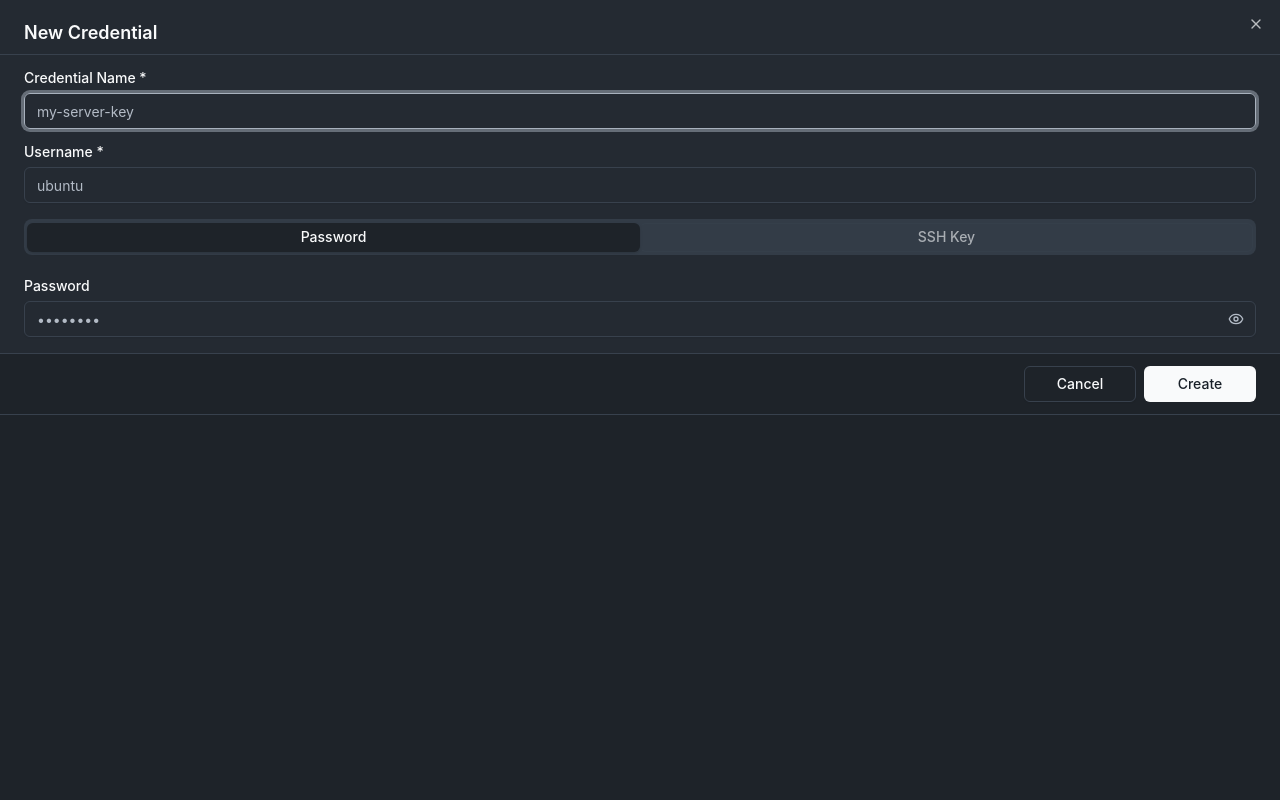
Scenario: Unsaved-changes guard — CredentialForm › prompts before closing when the user has typed something
Type "prod" into the field labelled "Credential Name *". click: x=640, y=111
box: [24,93,1256,129]
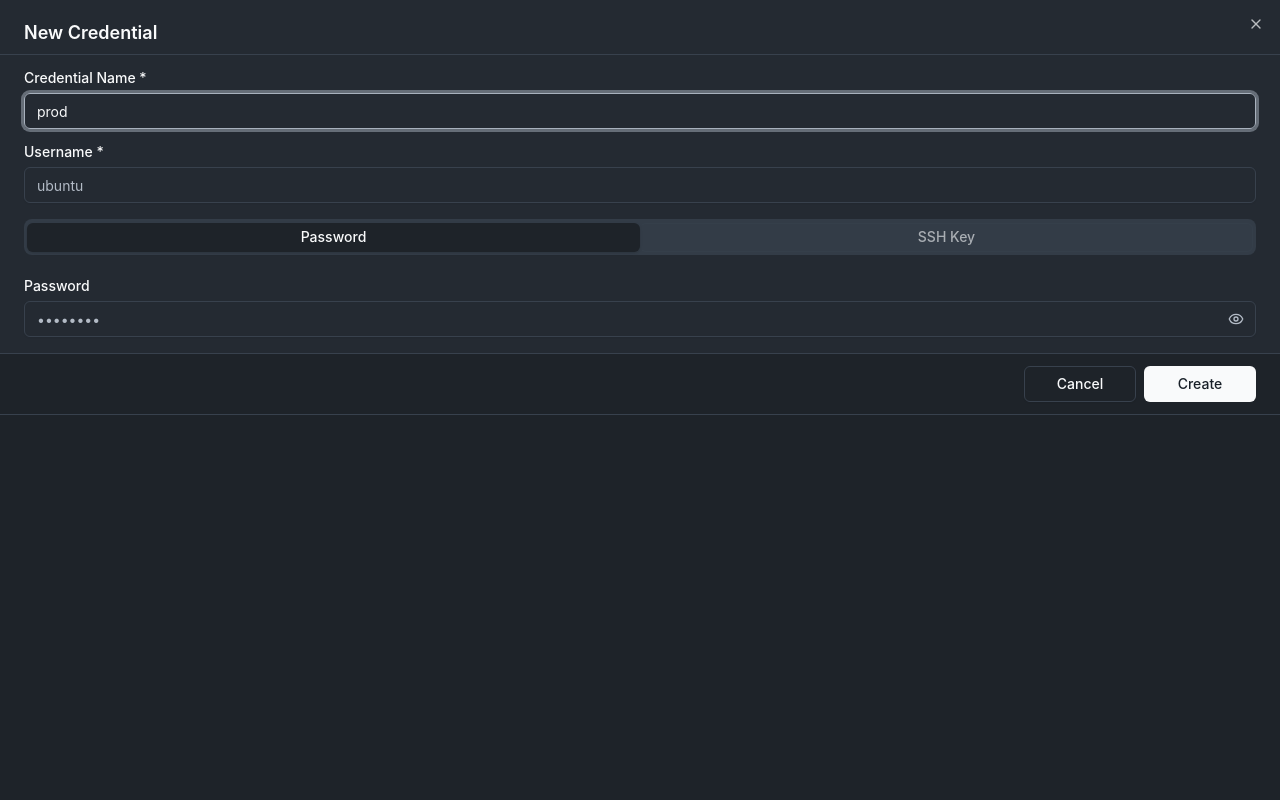
Click the button "Cancel". click: x=1080, y=384
box: [1024,366,1136,402]
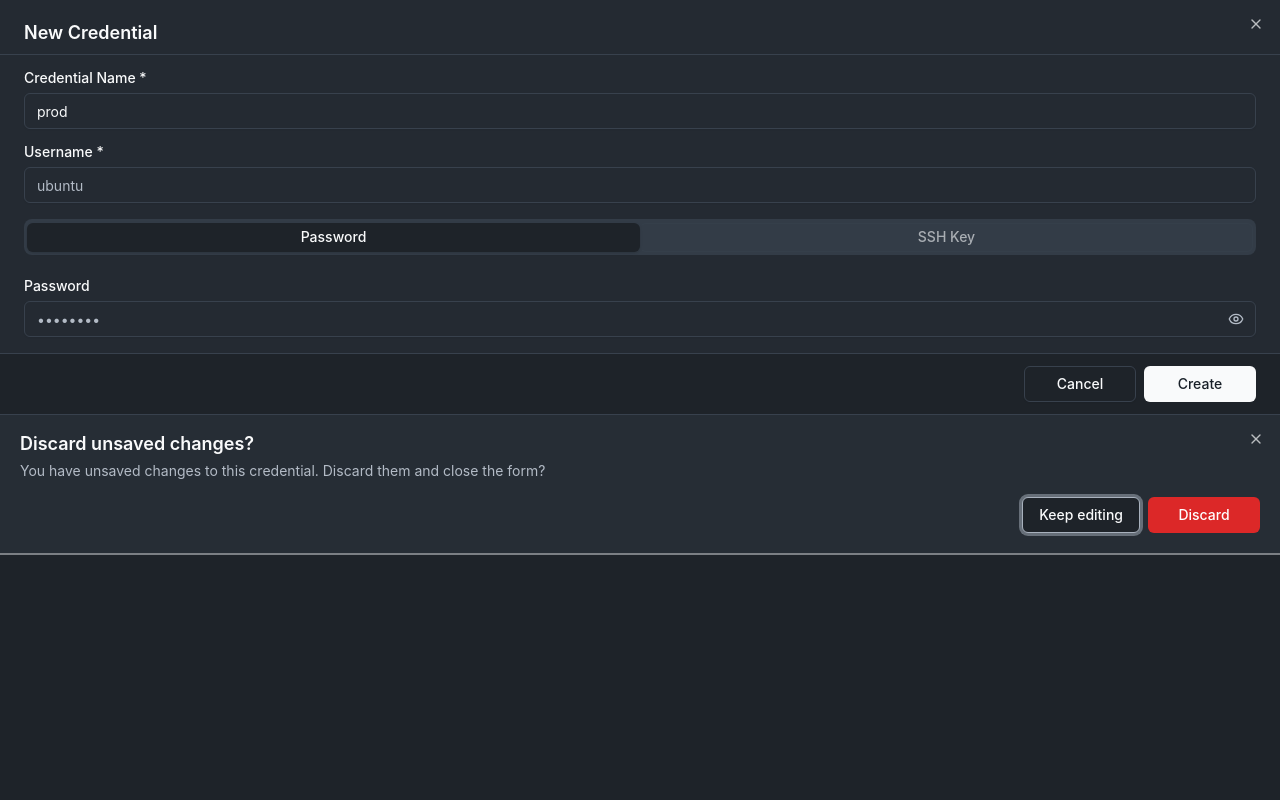
expect the dialog "Discard unsaved changes" is shown: met, box [0,415,1279,555]
